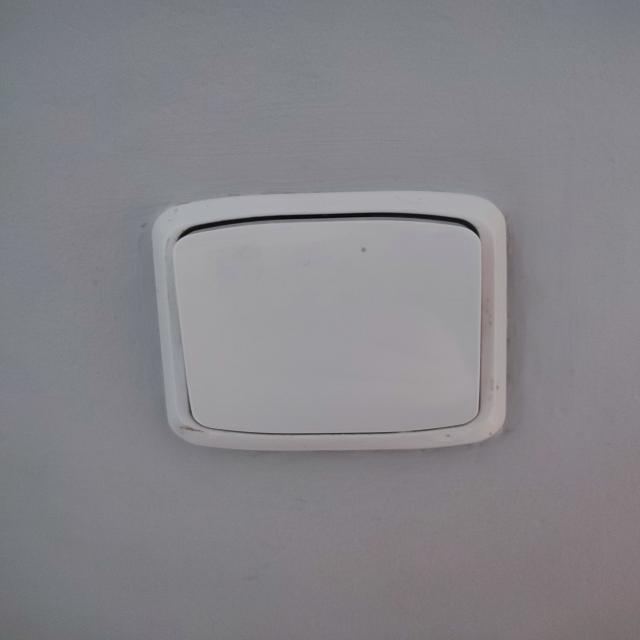house switch: (149, 190, 507, 450)
